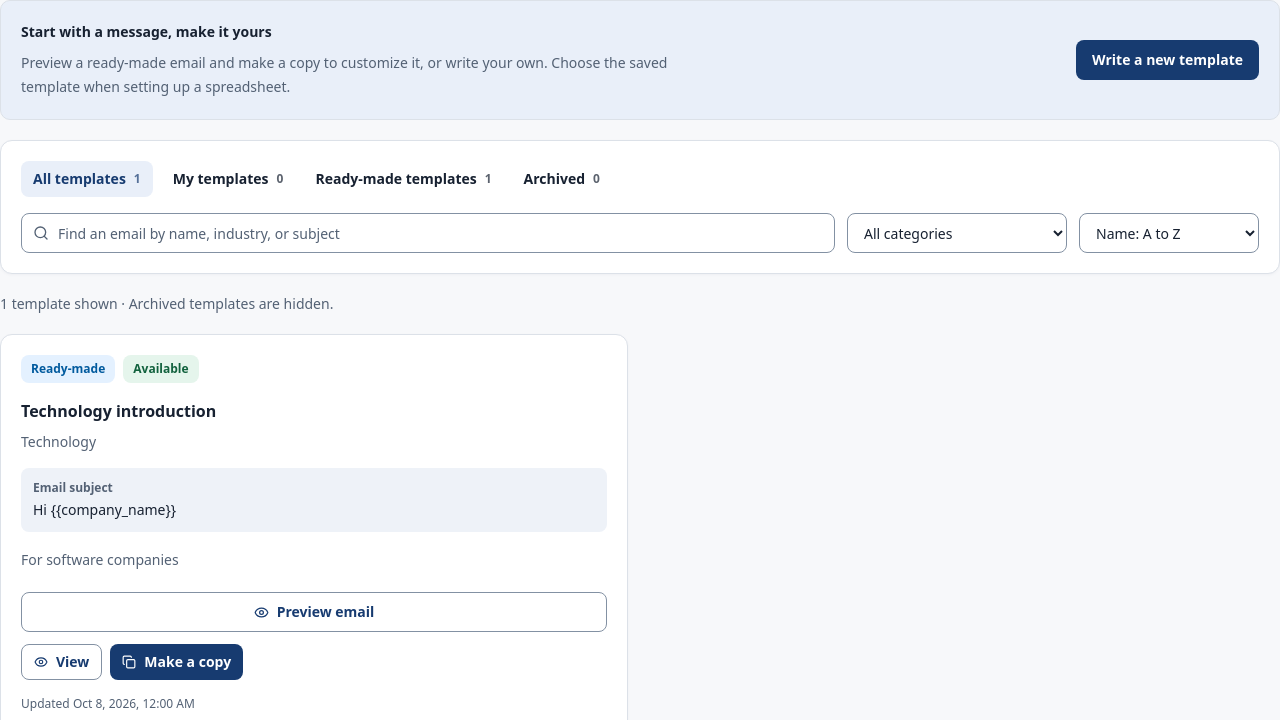
template library › shows a sanitized quick preview without sending an email
Step 1. Click the button "Preview email" → [314, 612], box [21,592,607,632]
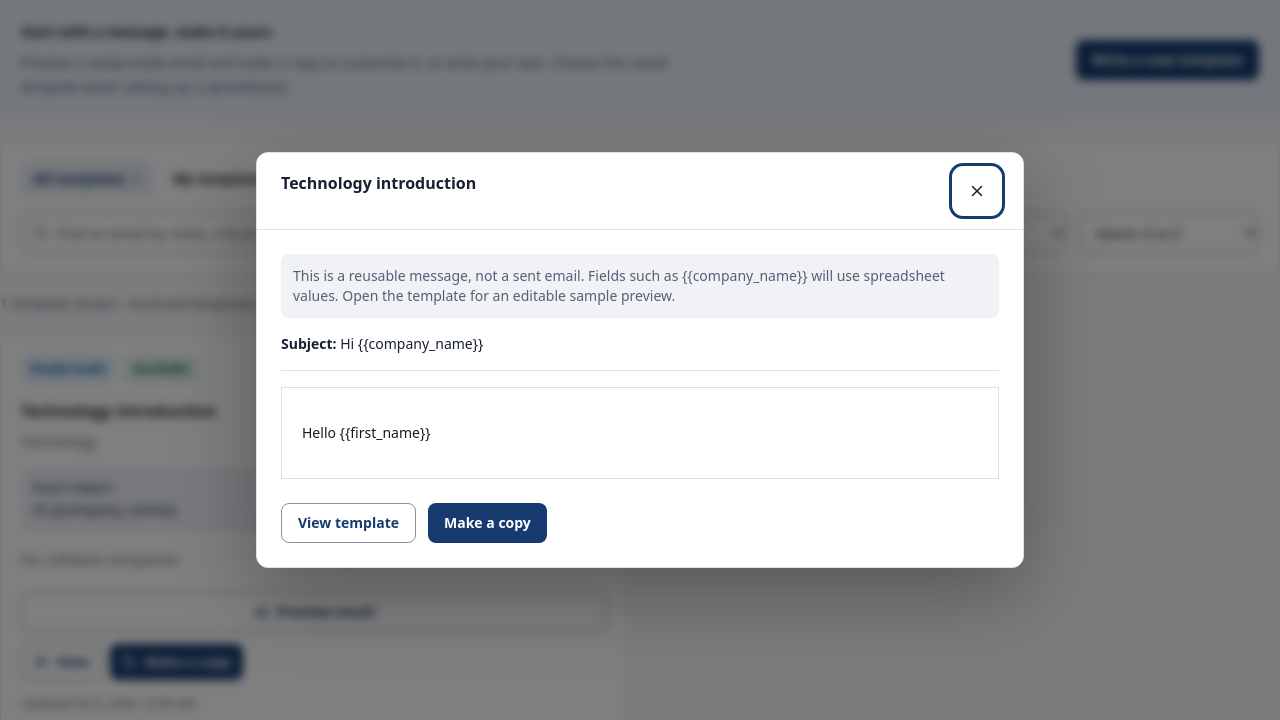
Check: the text "Hello {{first_name}}" is shown, box [302,423,431,442]
